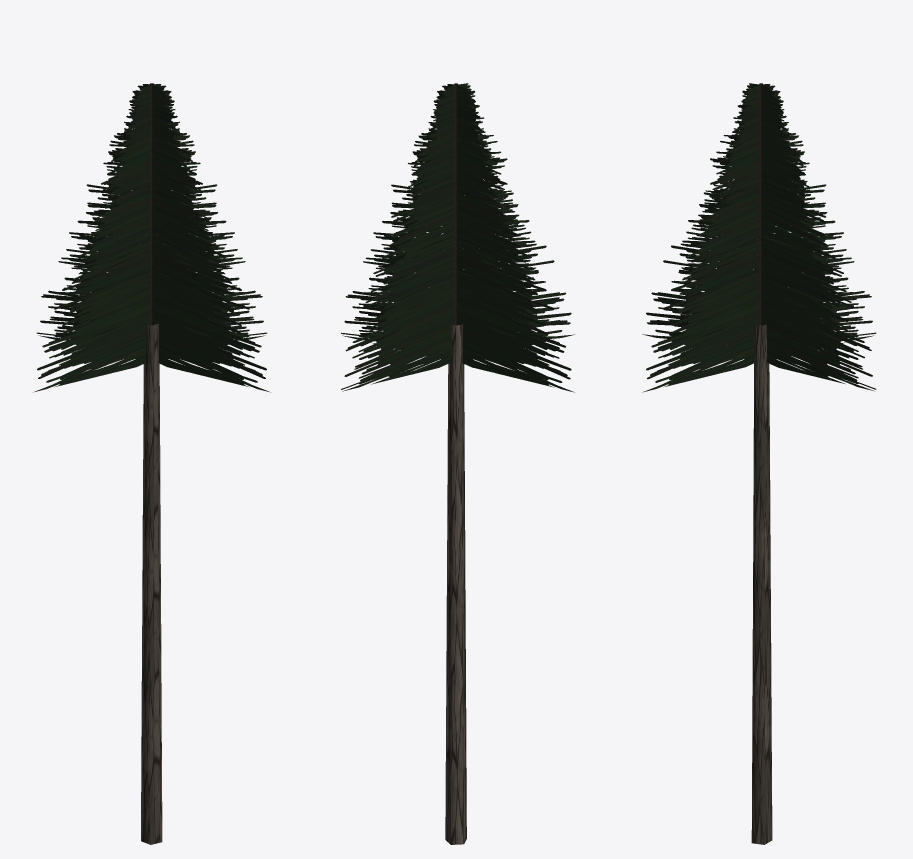
File: S7U_PineLOD1.fbx
The picture shows the model from 3 angles, left to right: view 1: azimuth 30°, elevation 25°; view 2: azimuth 150°, elevation 25°; view 3: azimuth 270°, elevation 25°; orthographic projection.
Visible parts, largest first — view 1: S7U_PineLOD1; view 2: S7U_PineLOD1; view 3: S7U_PineLOD1.
Boxes of the visible parts, x1=… form: S7U_PineLOD1: x1=33, y1=83, x2=270, y2=844; S7U_PineLOD1: x1=341, y1=83, x2=575, y2=844; S7U_PineLOD1: x1=642, y1=83, x2=876, y2=844.
Size of the model in its own units: 7 by 18.4 by 6.06.
